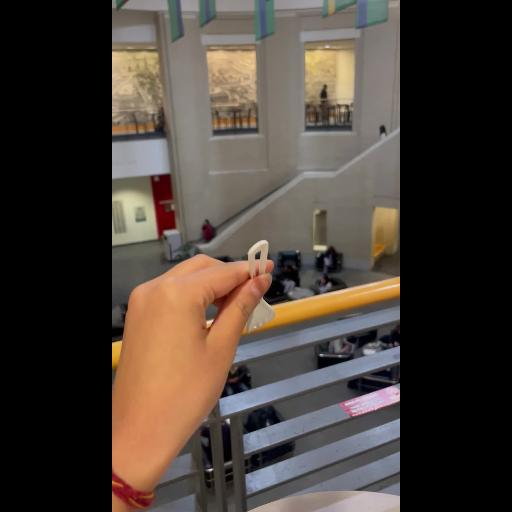utensil: (243, 238, 275, 334)
